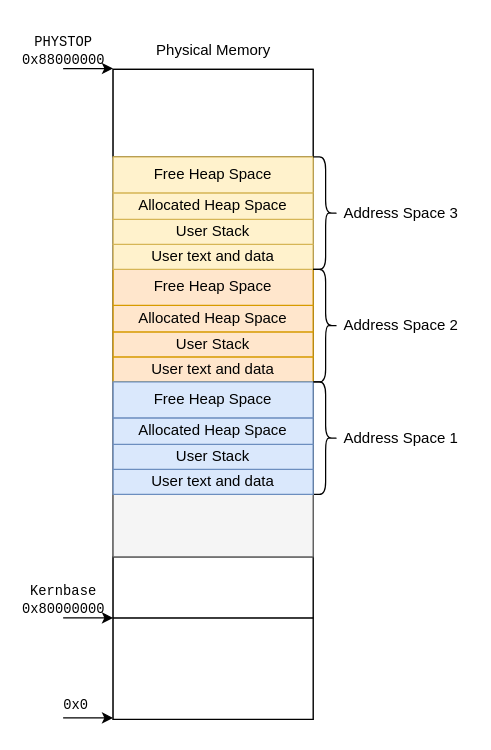
Image size: 491x750. Some labels were removed from this diagram. Each missing label, with the centre of its shape:
"...more Address Spaces" belongs at pixel 212 112.
"kalloc Free Space" belongs at pixel 212 525.
"Kernel data and text" belongs at pixel 212 587.
"MMIO" belongs at pixel 212 668.
